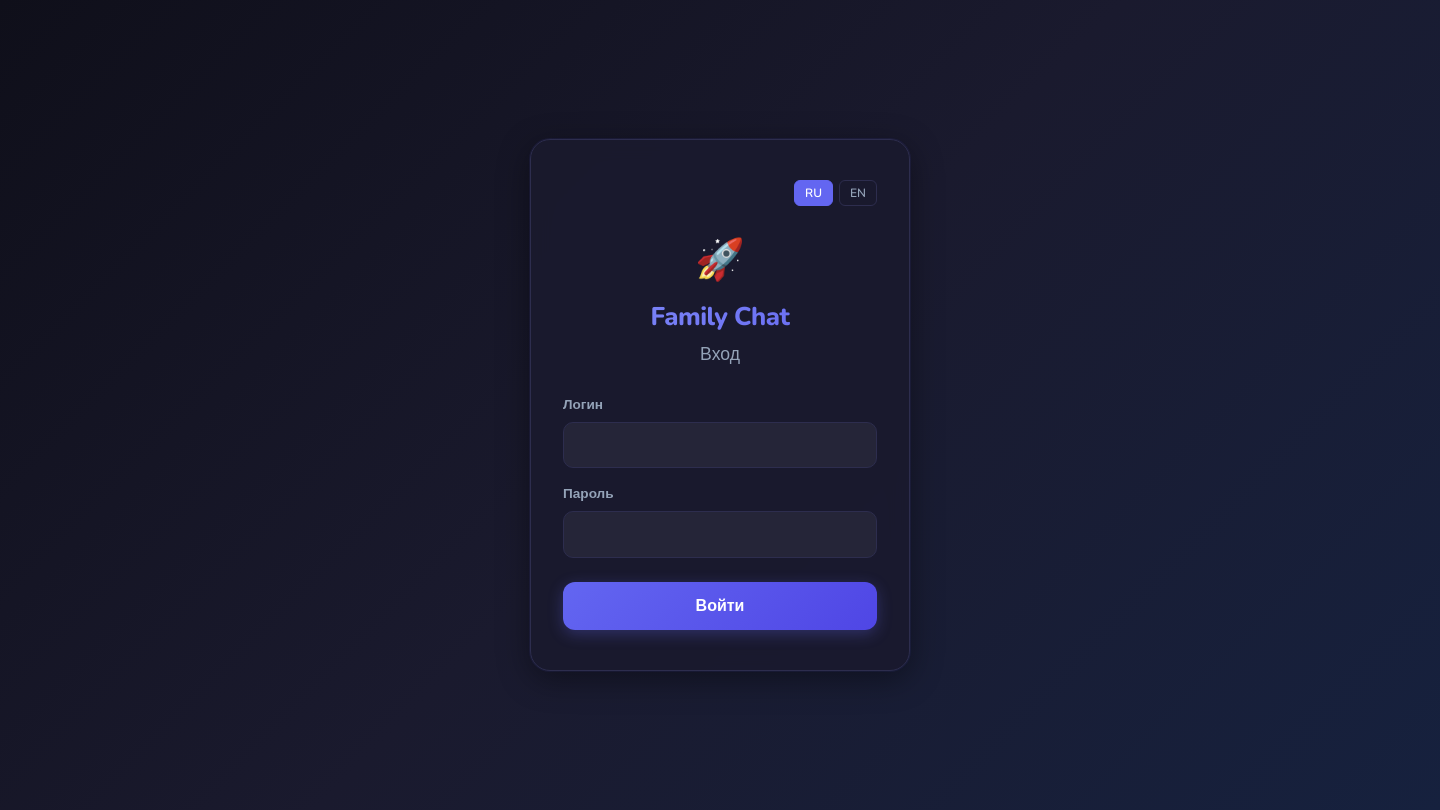
Test: Login errors › shows service_unavailable for unknown error
Type "parent" into the field labelled "Логин" at (720,445), box left=563, top=422, right=877, bottom=468
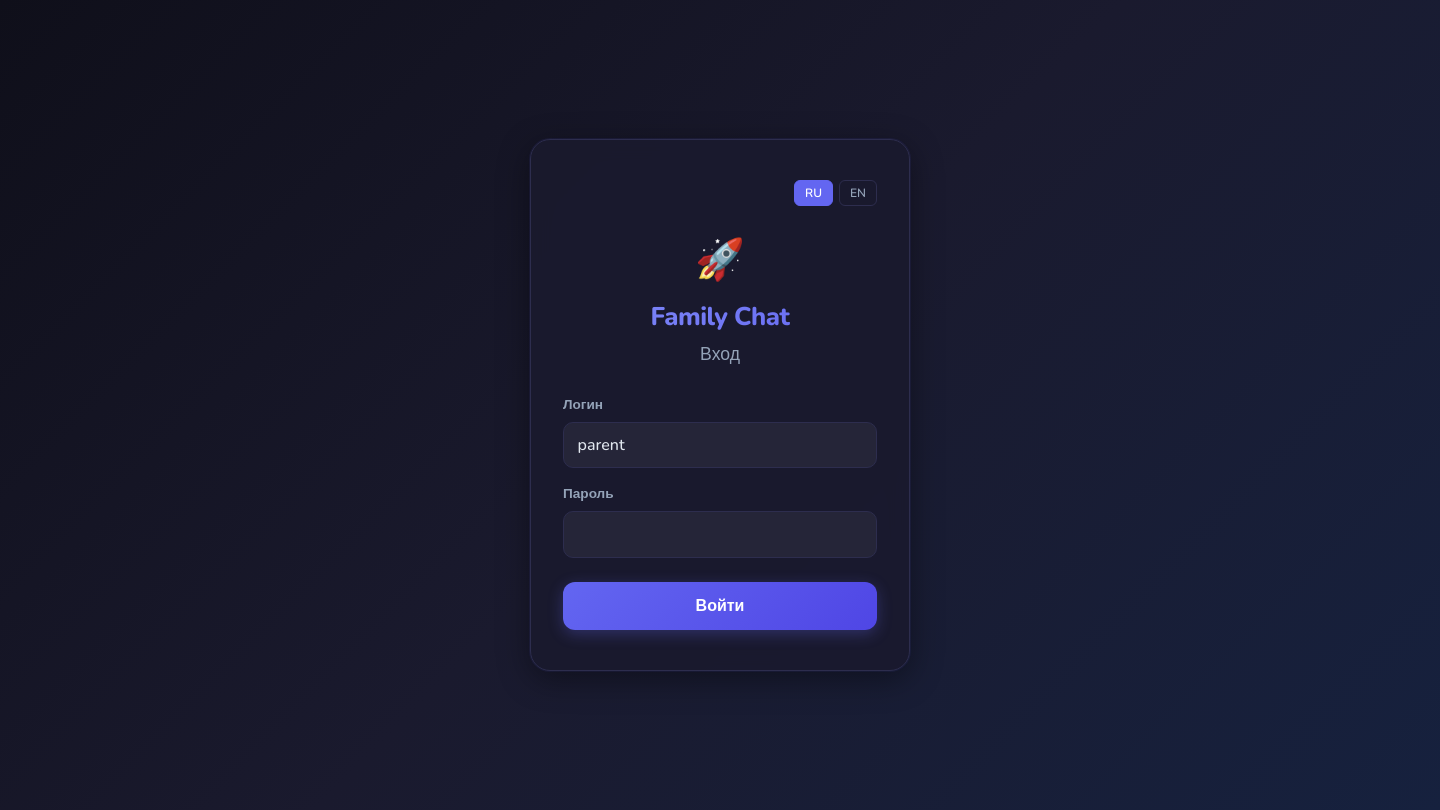
Type "secret" into the password field labelled "Пароль" at (720,534), box left=563, top=511, right=877, bottom=558
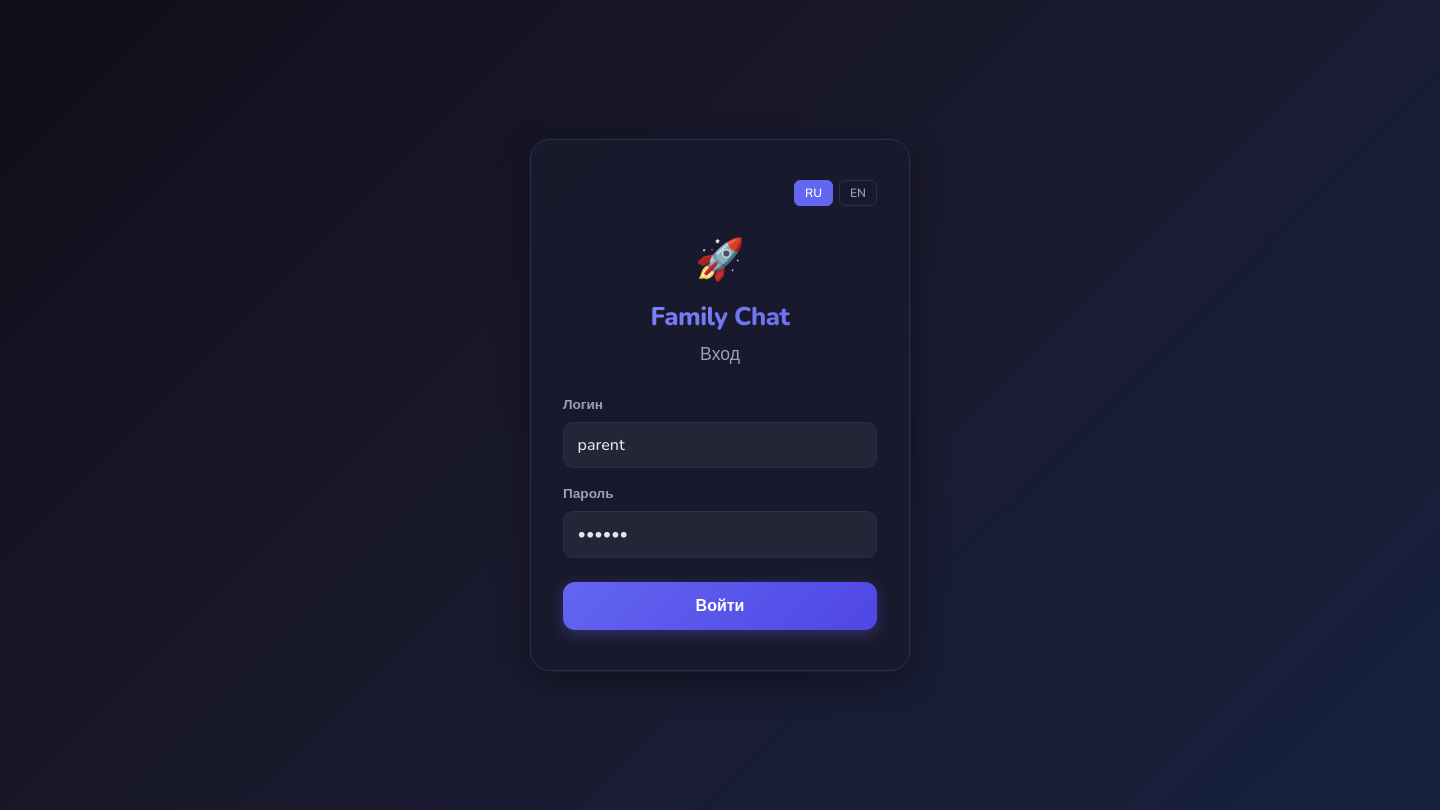
Click the button "Войти" at (720,606), box left=563, top=582, right=877, bottom=630
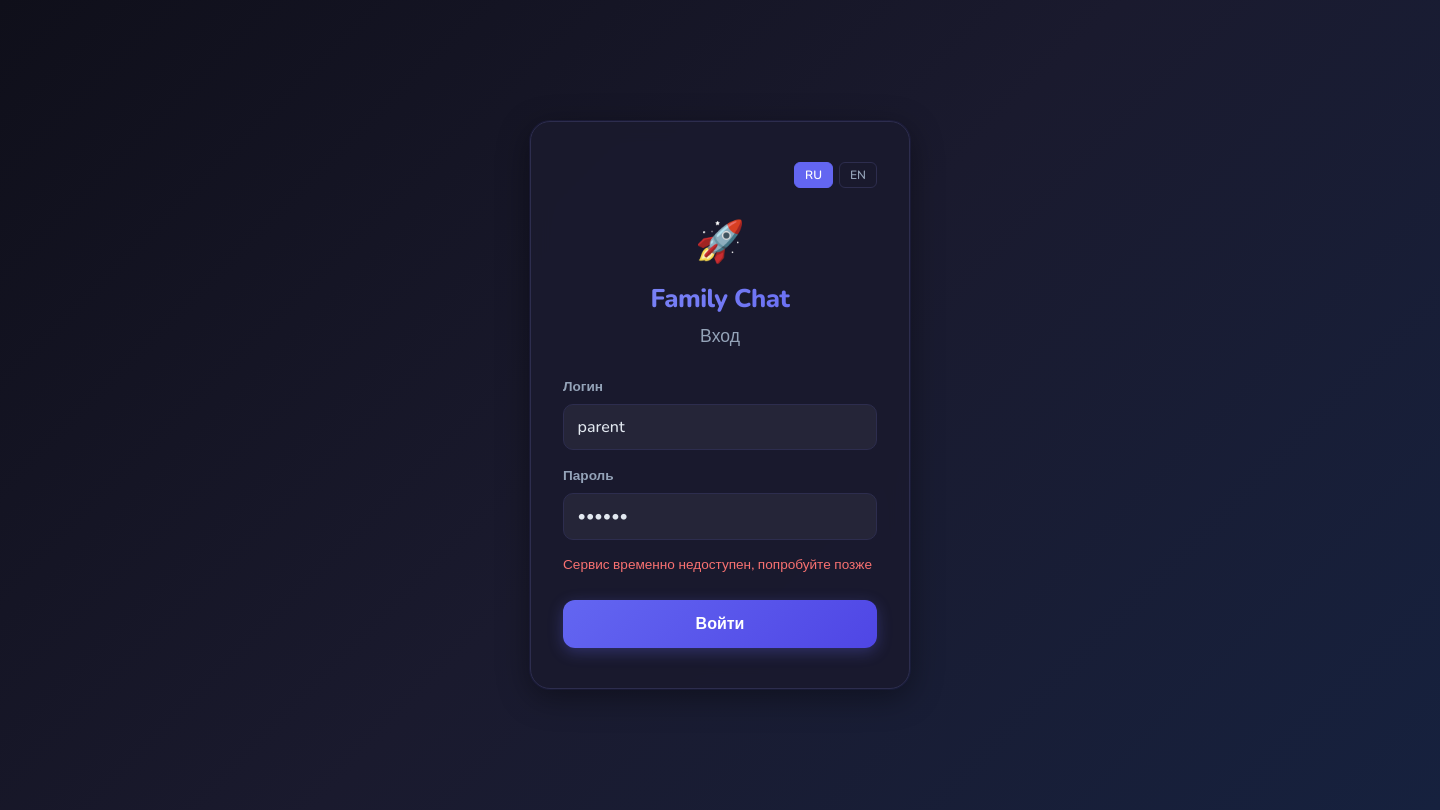
Result: the text "Сервис временно недоступен, попробуйте позже" is shown at left=563, top=555, right=877, bottom=576
